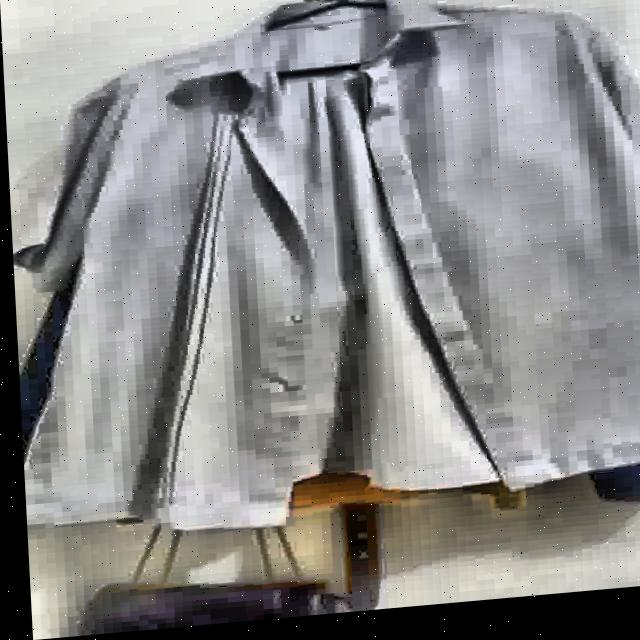clothes: (1, 0, 640, 634)
